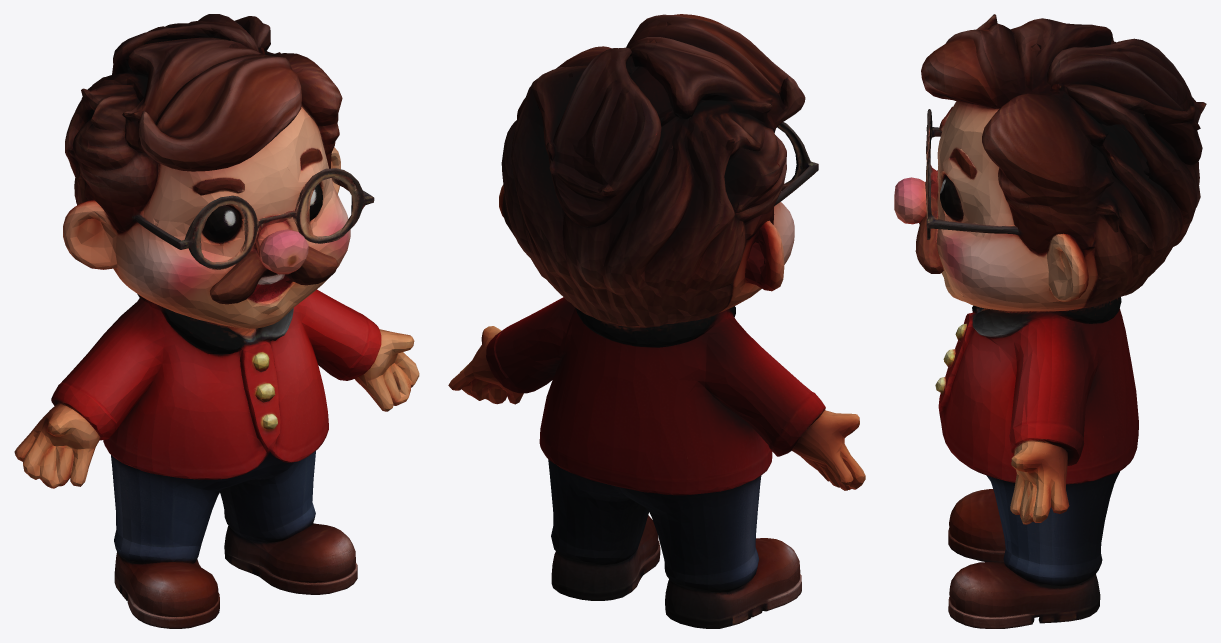
Rendered from yolcu-varyant-3.glb.
The picture shows the model from 3 angles, left to right: view 1: azimuth 30°, elevation 25°; view 2: azimuth 150°, elevation 25°; view 3: azimuth 270°, elevation 25°; orthographic projection. The views are drawn at different scales.
Parts seen in each view (by area): view 1: world; view 2: world; view 3: world.
Part boxes in pixels (left/top/right/bottom): world: left=14, top=14, right=419, bottom=628; world: left=448, top=14, right=865, bottom=628; world: left=894, top=14, right=1206, bottom=628.
Size of the model in its own units: 0.7732 by 0.9997 by 0.5226.
Materials: 1 (1 with a texture image).
